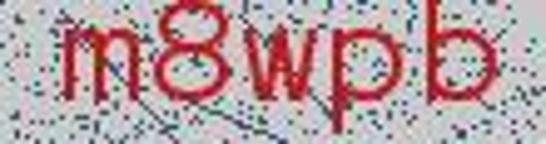8: (152, 2, 233, 106)
b: (415, 1, 506, 116)
m: (57, 18, 148, 119)
p: (325, 21, 402, 140)
w: (237, 18, 318, 111)
